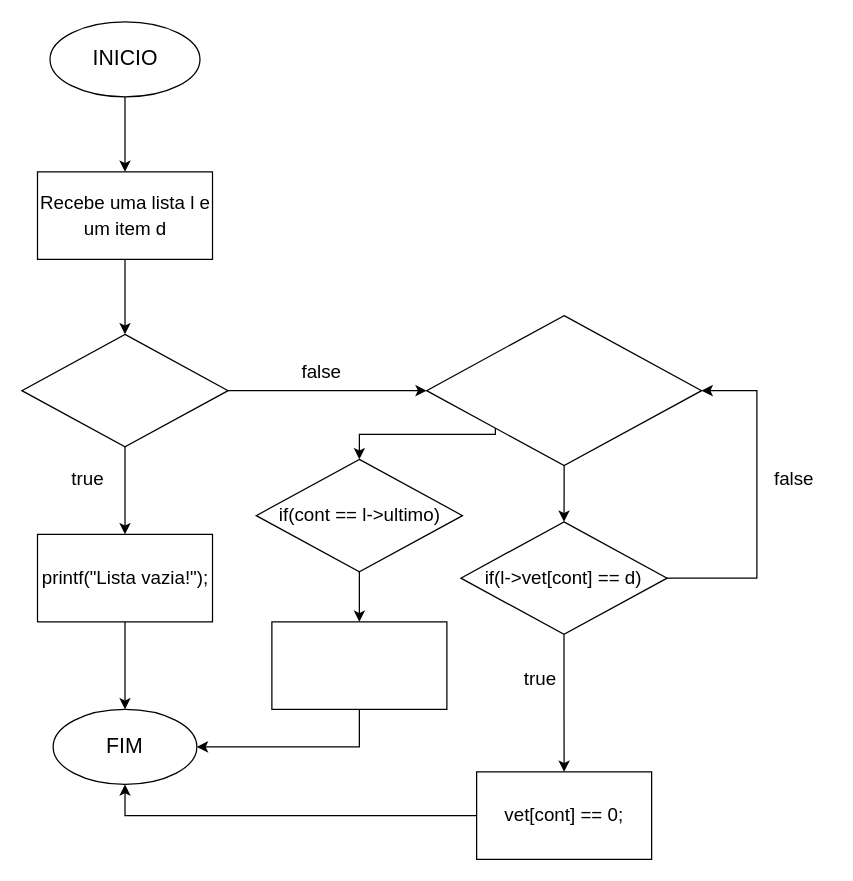
Image size: 853x881. Some labels were removed from this diagram. The centre of each missing label's shape, as x and y in pixels:
for(int cont = l->primeiro; cont < l->ultimo; cont++): point 563,390
if(l->primeiro == l->ultimo): point 124,390
printf("Item não encontrado!");: point 359,665
